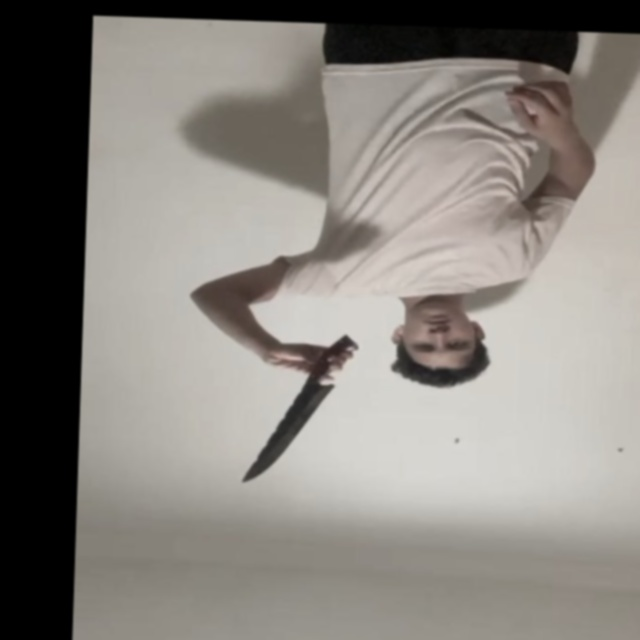Sharp-Object: (241, 380, 338, 486)
